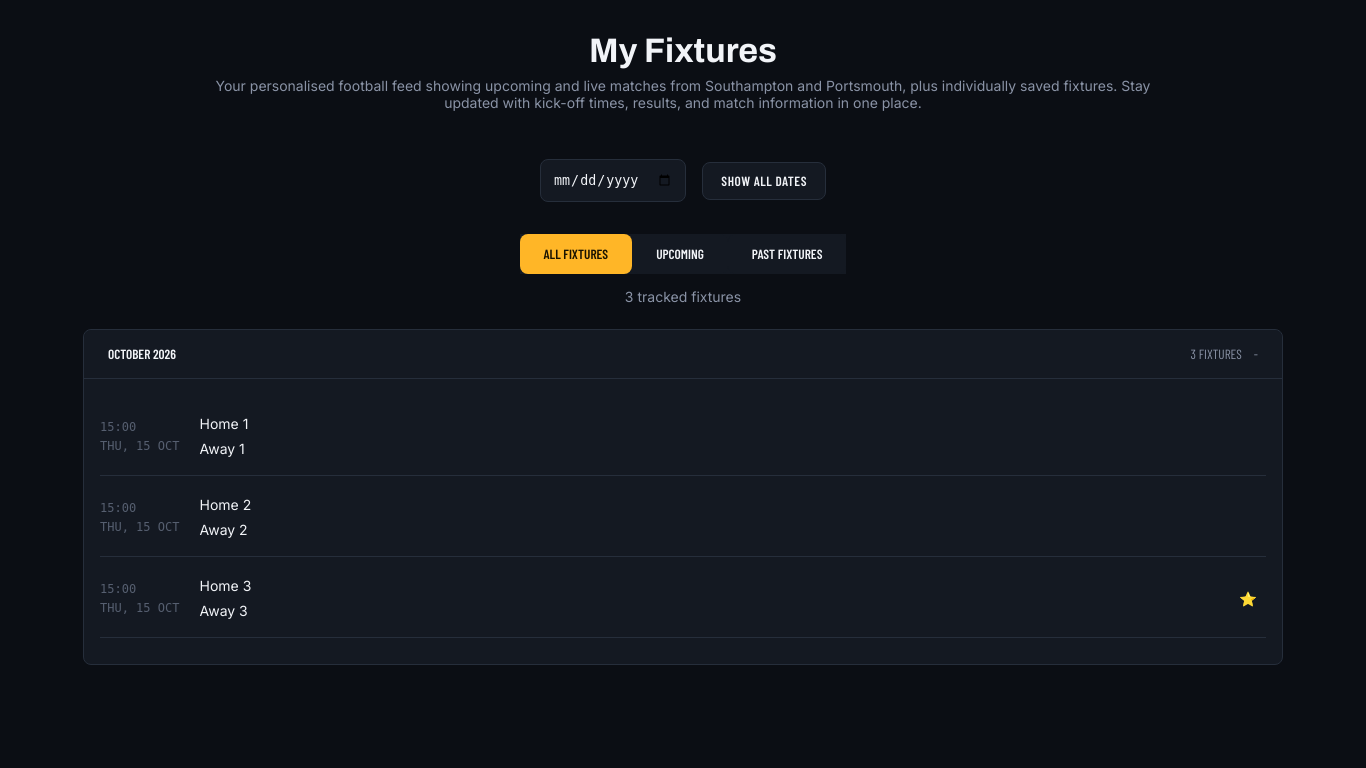
Test: hides team-derived stars and shows an active removable star for individually saved fixtures
The image size is (1366, 768).
Check: the text "Home 3" is shown, box [200,577,251,594]
Check: the text "from Southampton and Portsmouth, plus individually saved" is shown, box [203,77,1163,111]
Click the button named "Remove from favourites".
click(1248, 598)  # box [1230,584,1266,612]
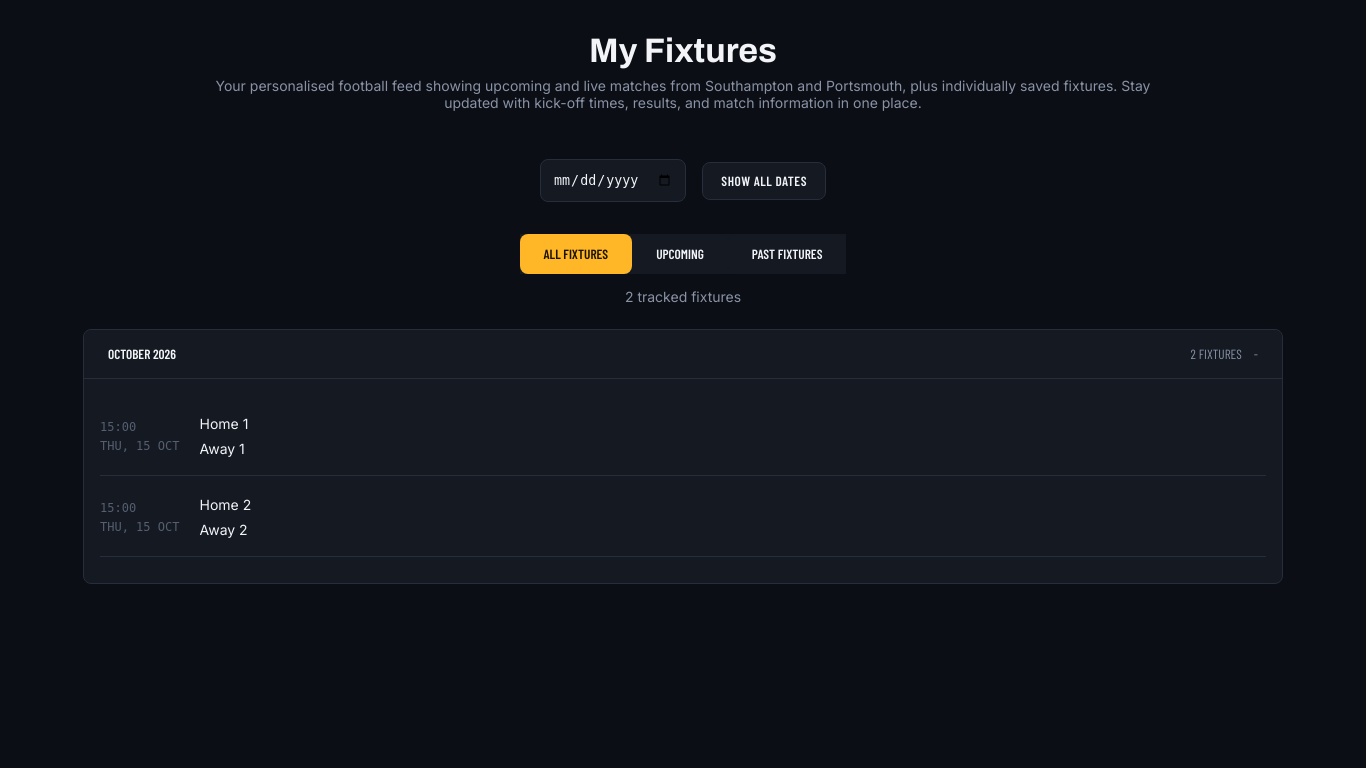
Check: the text "Home 1" is shown, box [200,415,248,432]
Check: the text "Home 3" is gone
